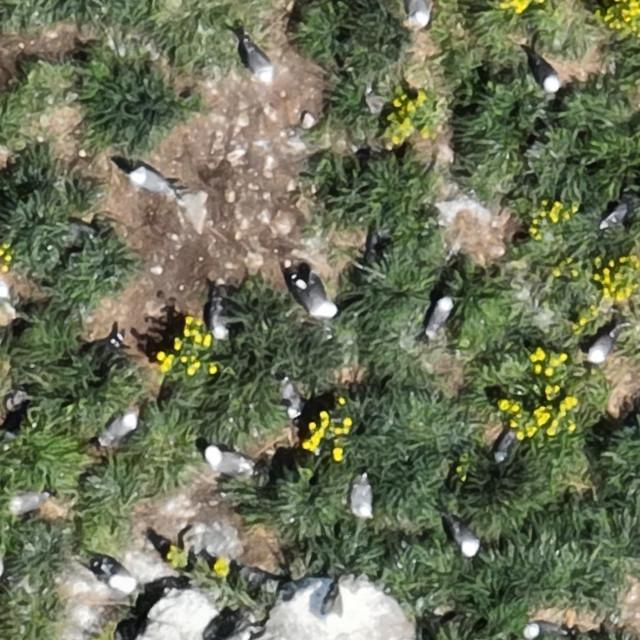umineko: (94, 559, 138, 596), (321, 575, 345, 629), (301, 282, 334, 318), (247, 45, 274, 81), (207, 450, 249, 472), (535, 58, 562, 92), (104, 412, 138, 439), (129, 168, 167, 192), (455, 525, 480, 558), (588, 332, 614, 362), (352, 482, 373, 518), (11, 492, 45, 514), (429, 298, 451, 331), (527, 621, 565, 637), (495, 432, 514, 462), (212, 303, 228, 338), (408, 2, 430, 26)
